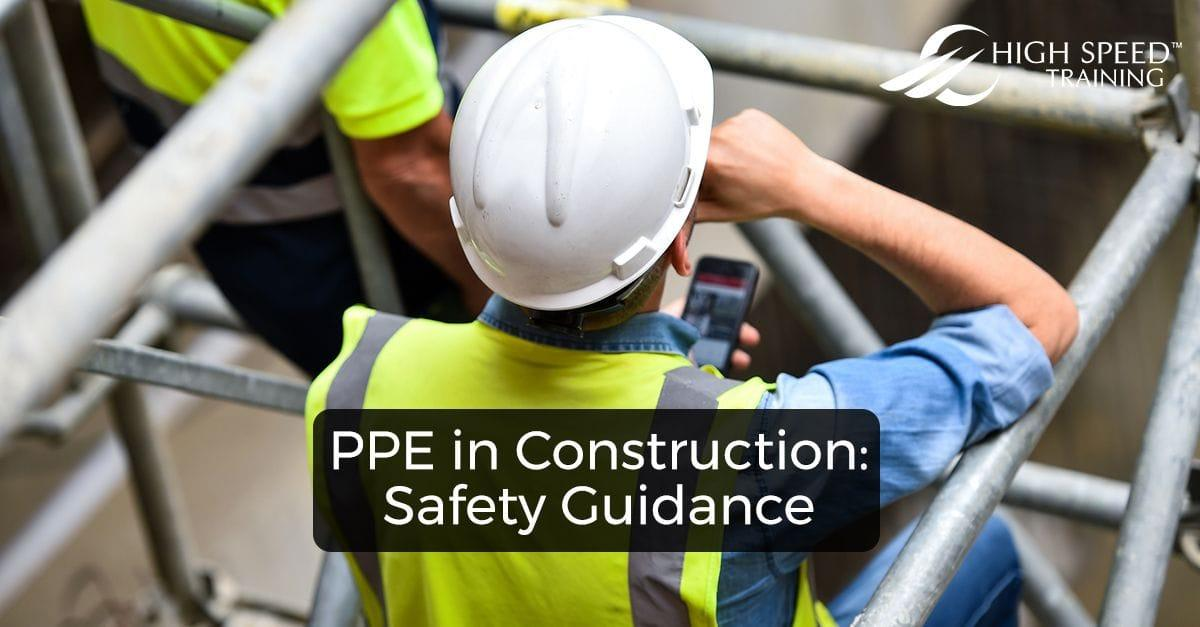helmet: (444, 17, 710, 314)
